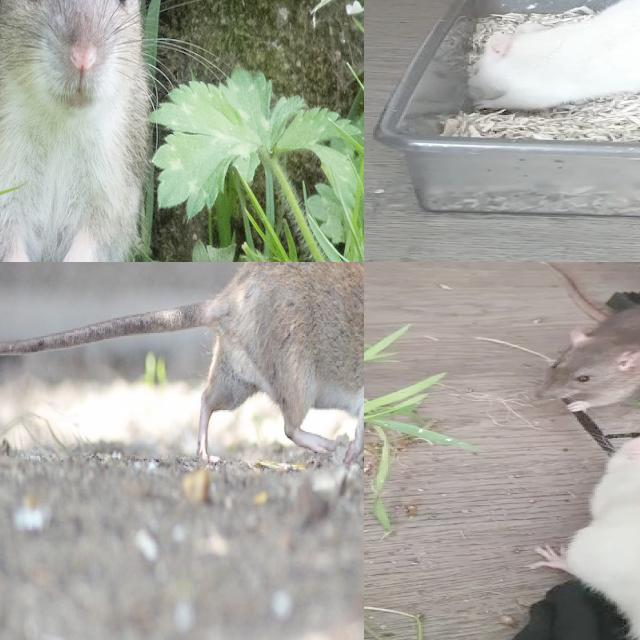rat: (0, 0, 177, 262), (203, 262, 364, 433), (460, 0, 640, 126), (555, 440, 640, 640), (524, 295, 640, 417)
